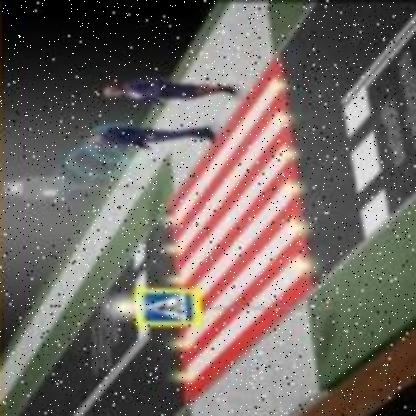Pedestrian Crossing: (142, 290, 194, 321)
